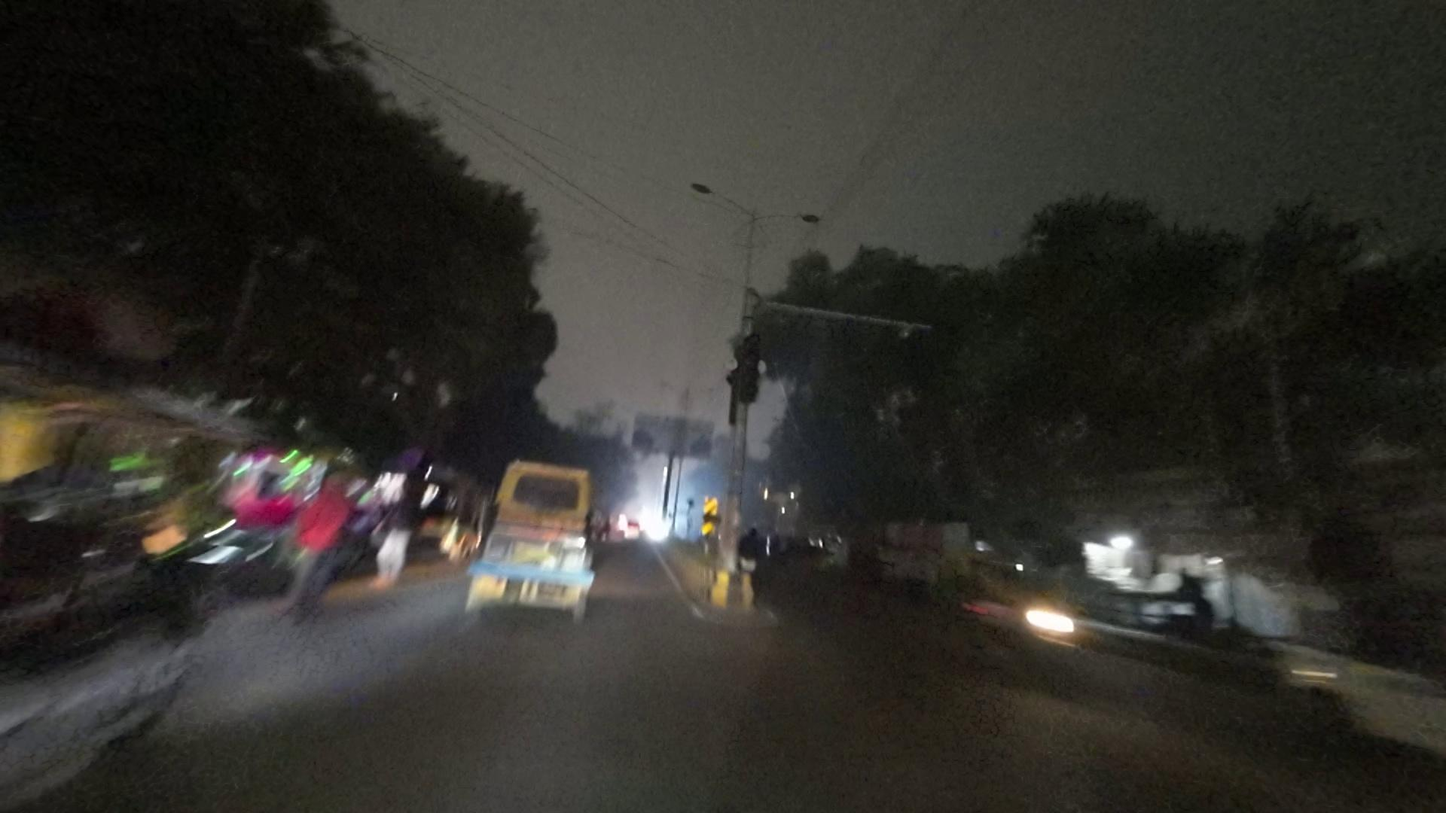streetlight: (691, 181, 753, 214), (756, 210, 823, 228)
